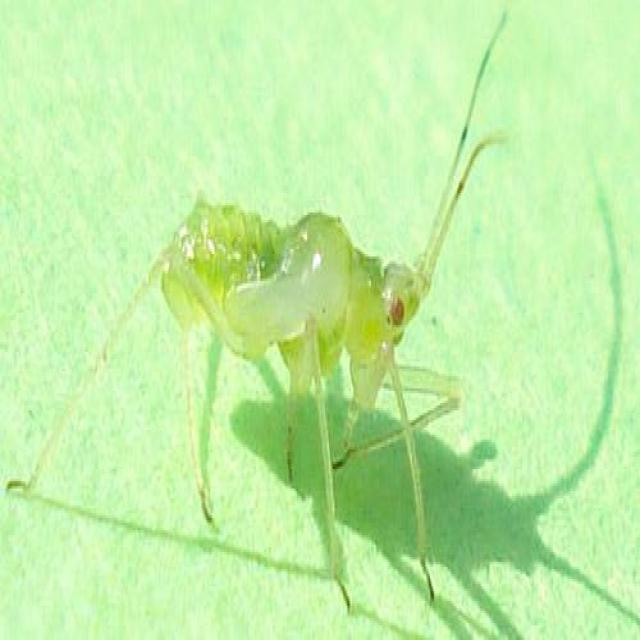Aphids: (78, 45, 514, 612)
